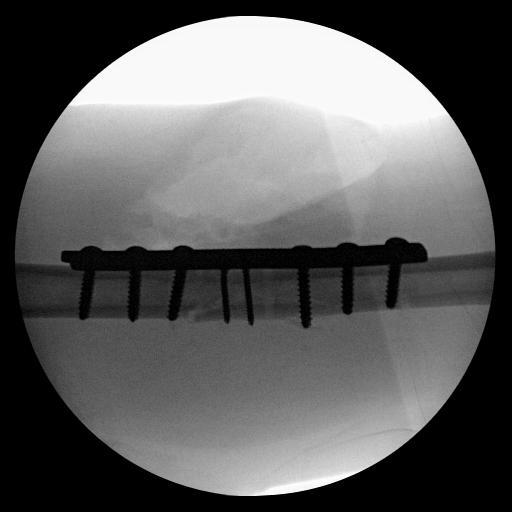implant: (59, 228, 434, 326)
